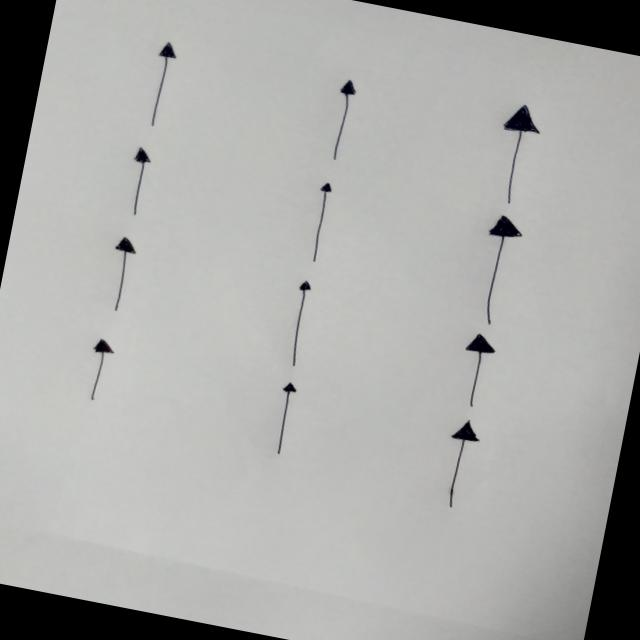arrow_line_up: (483, 99, 552, 213), (466, 212, 524, 328), (435, 416, 484, 512), (452, 330, 500, 414), (138, 39, 180, 132), (321, 76, 364, 166), (279, 278, 319, 371), (100, 234, 144, 317), (116, 144, 158, 220), (302, 180, 339, 266), (266, 379, 302, 459), (81, 336, 116, 406)
